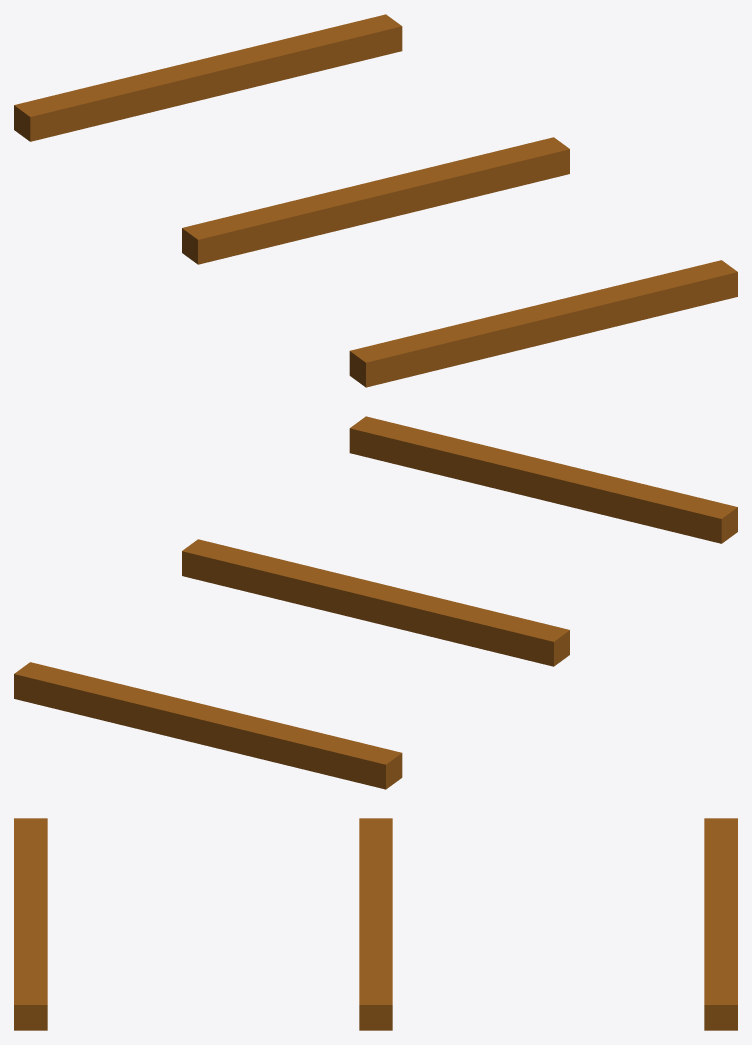
Rendered from 17.-LuzTecho.fbx.
3 renders of one model, top to bottom at view 1: azimuth 30°, elevation 25°; view 2: azimuth 150°, elevation 25°; view 3: azimuth 270°, elevation 25°, orthographic. The views are drawn at different scales.
Visible parts, largest first — view 1: 04.-LuzTecho; view 2: 04.-LuzTecho; view 3: 04.-LuzTecho.
Boxes of the visible parts, x1=… form: 04.-LuzTecho: x1=14, y1=14, x2=737, y2=387; 04.-LuzTecho: x1=14, y1=416, x2=737, y2=789; 04.-LuzTecho: x1=14, y1=818, x2=737, y2=1030.
Bounding box in the file's own units: 943 × 60.19 × 1545.
